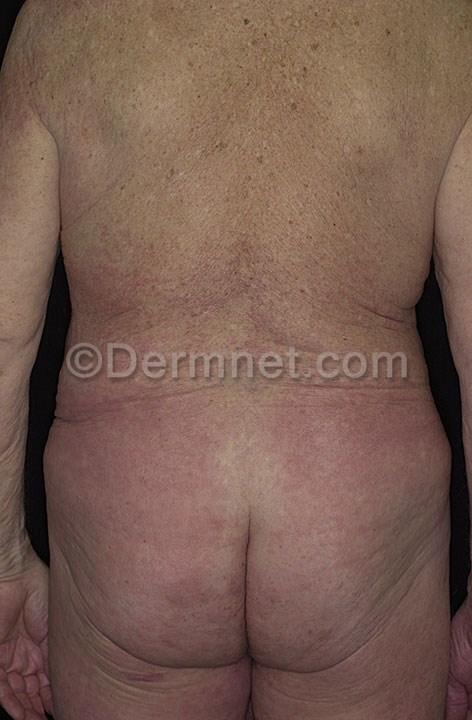Eczema: (70, 244, 164, 336), (149, 378, 235, 477), (118, 545, 214, 628), (268, 613, 364, 692), (279, 448, 366, 533), (94, 468, 176, 558), (216, 222, 280, 331), (234, 372, 312, 461), (279, 517, 356, 607), (321, 231, 385, 338), (166, 462, 239, 552), (46, 495, 108, 589), (94, 400, 166, 478), (344, 510, 415, 588), (44, 417, 116, 493), (366, 383, 450, 448), (366, 451, 444, 518), (173, 552, 245, 620), (309, 382, 373, 457), (363, 650, 438, 712), (310, 307, 368, 378), (369, 318, 419, 392), (161, 274, 219, 328), (105, 647, 167, 695), (393, 581, 434, 643)
